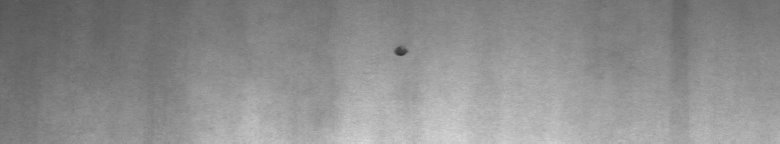fi: (389, 40, 413, 64)
